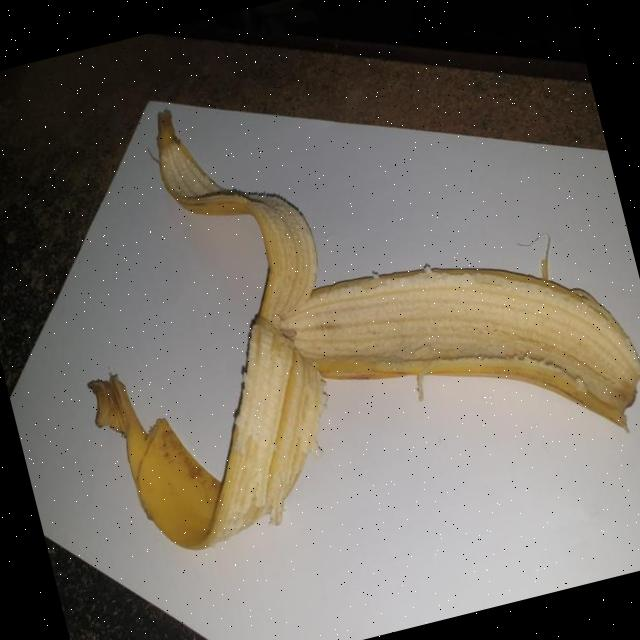banana-peel: (23, 9, 640, 567), (267, 210, 640, 508)
